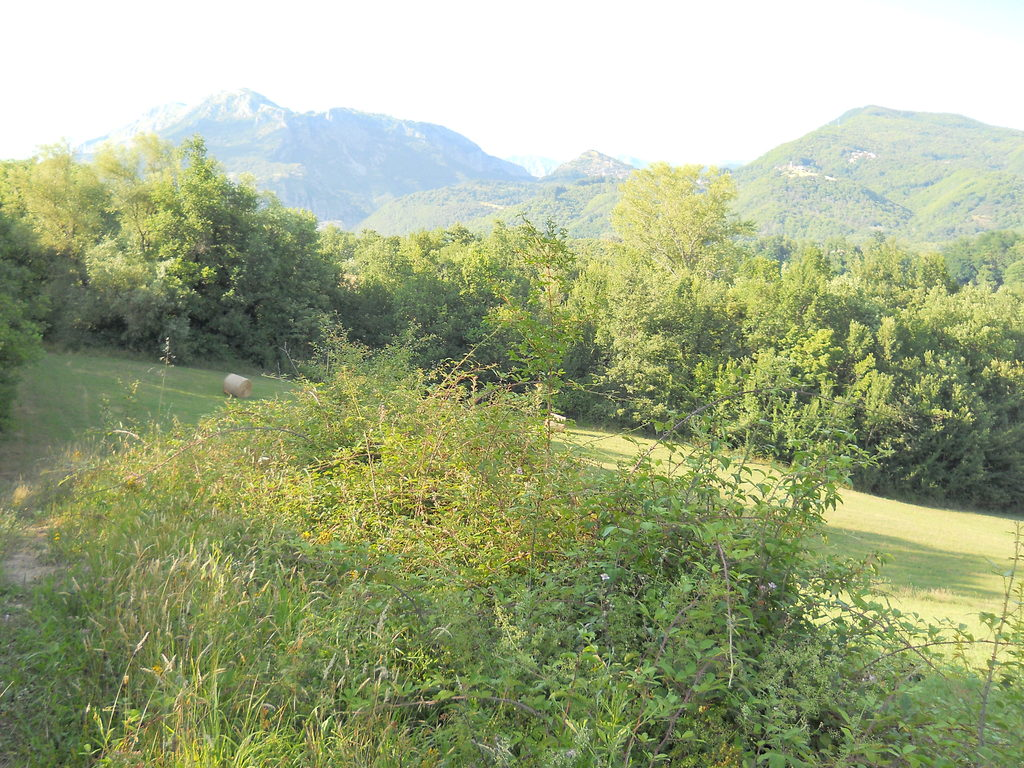Tree: (0, 130, 1024, 517)
